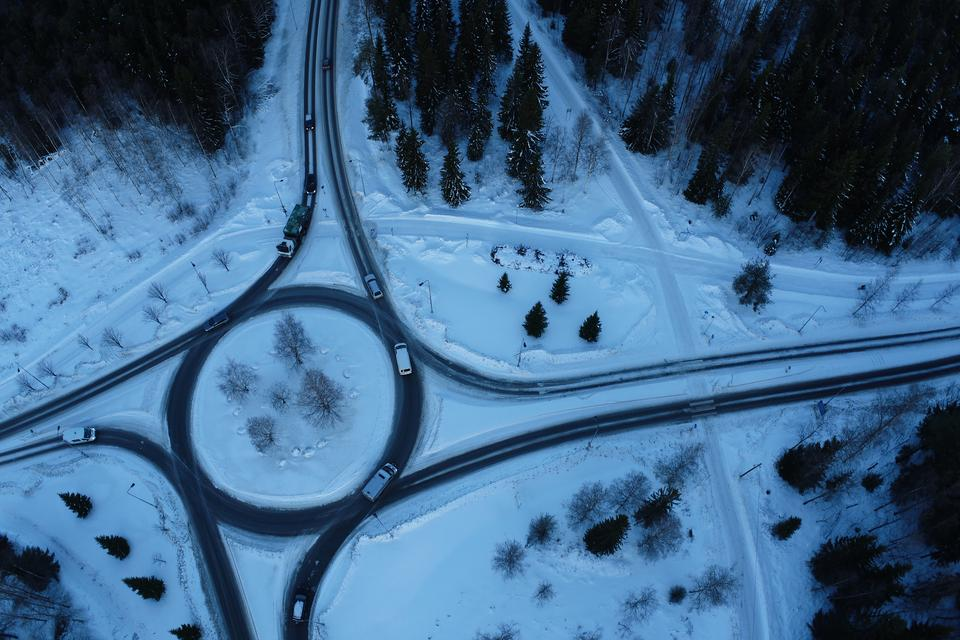intersection: (658, 331, 733, 447), (250, 203, 406, 254)
roundabout: (152, 276, 436, 554)
